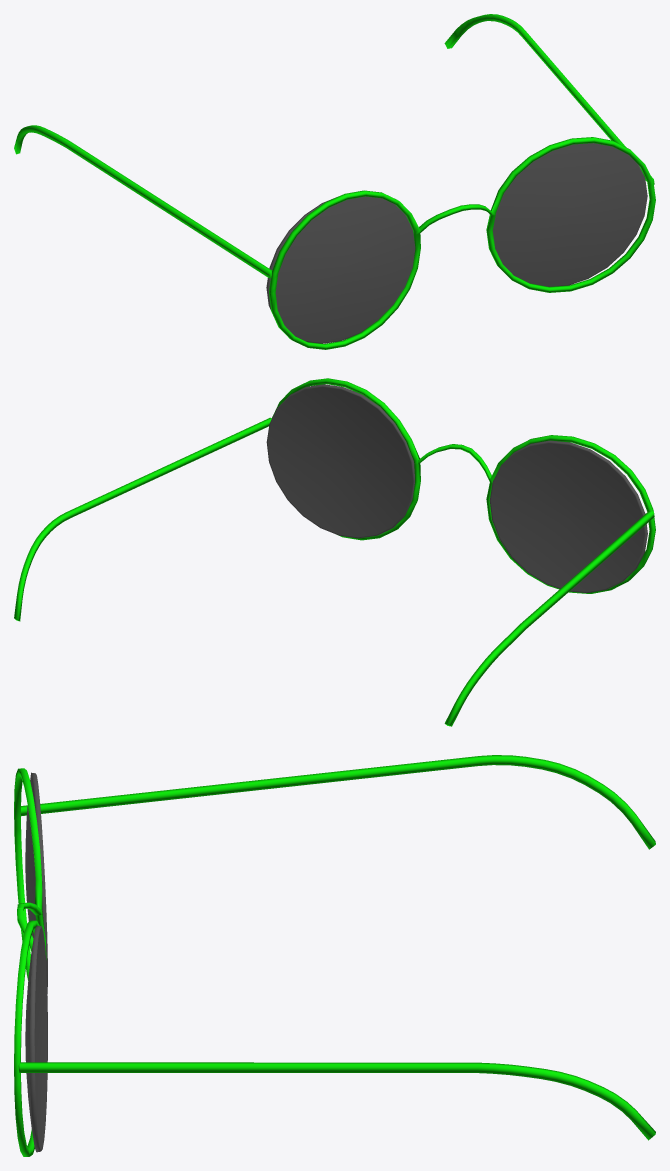
File: glass3_green.glb
3 renders of one model, top to bottom at view 1: azimuth 30°, elevation 25°; view 2: azimuth 150°, elevation 25°; view 3: azimuth 270°, elevation 25°, orthographic. The views are drawn at different scales.
Visible parts, largest first — view 1: glasses lenses.002, glasses lenses.001, glasses frame.001, glasses frame; view 2: glasses lenses.001, glasses lenses.002, glasses frame.001, glasses frame; view 3: glasses frame.001, glasses frame, glasses lenses.002, glasses lenses.001.
Part boxes in pixels (x1,y1,x2,y2): glasses lenses.002: (492,143,647,286); glasses lenses.001: (266,196,415,343); glasses frame.001: (14,125,464,349); glasses frame: (444,14,655,292); glasses lenses.001: (489,440,647,592); glasses lenses.002: (266,384,414,538); glasses frame.001: (444,435,655,726); glasses frame: (14,378,463,621); glasses frame.001: (14,755,655,980); glasses frame: (14,907,655,1156); glasses lenses.002: (25,925,47,1152); glasses lenses.001: (25,772,47,993).
Size of the model in its own units: 0.152 by 0.0478 by 0.1318.
